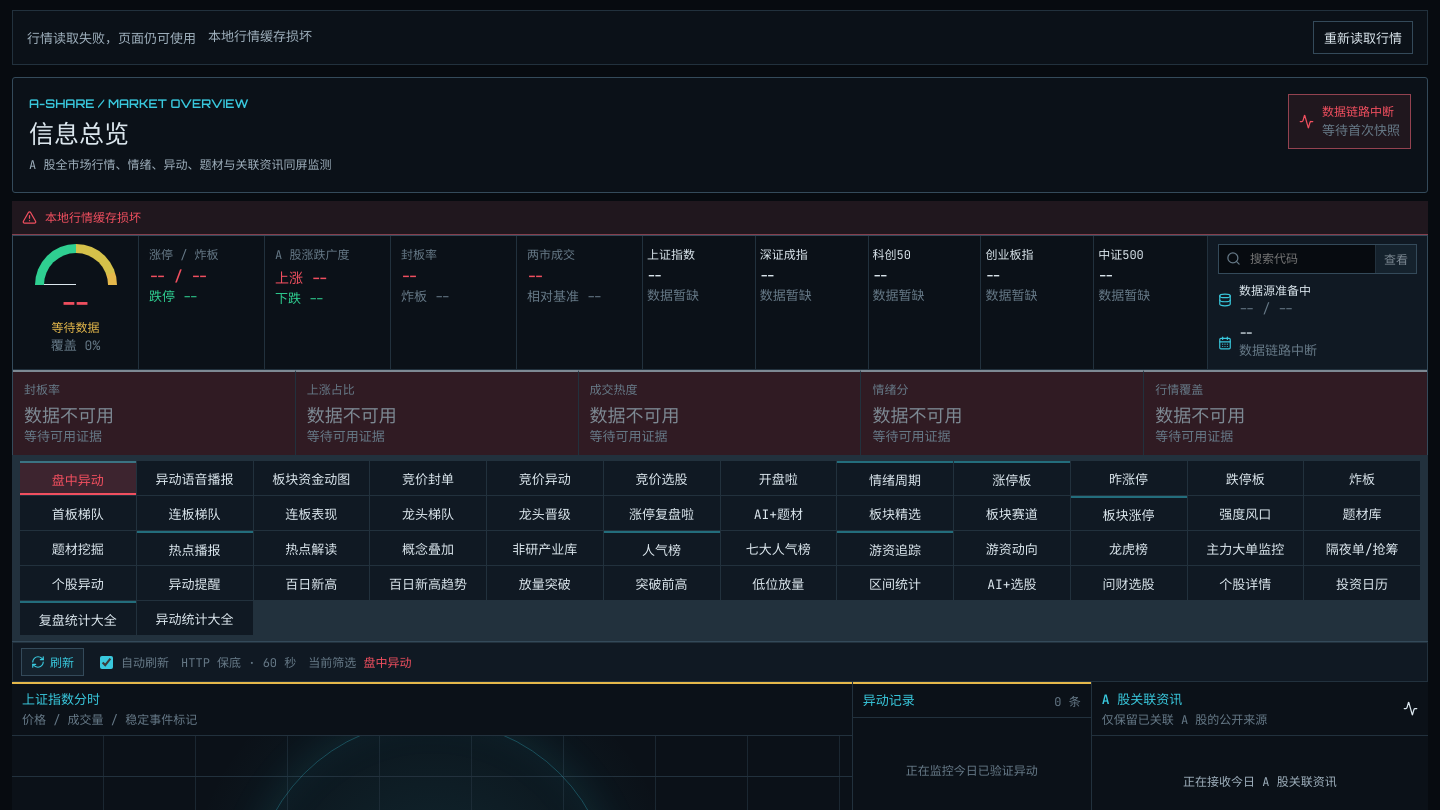
Test: MarketOverviewView › keeps the workspace usable when initial market data fails and supports retry
Expected: the element named "首页后台数据状态" shows "页面仍可使用", [27,30,196,47]
Click the button with aria-label "重试首页数据".
click(1363, 38)  # box [1313,21,1413,54]
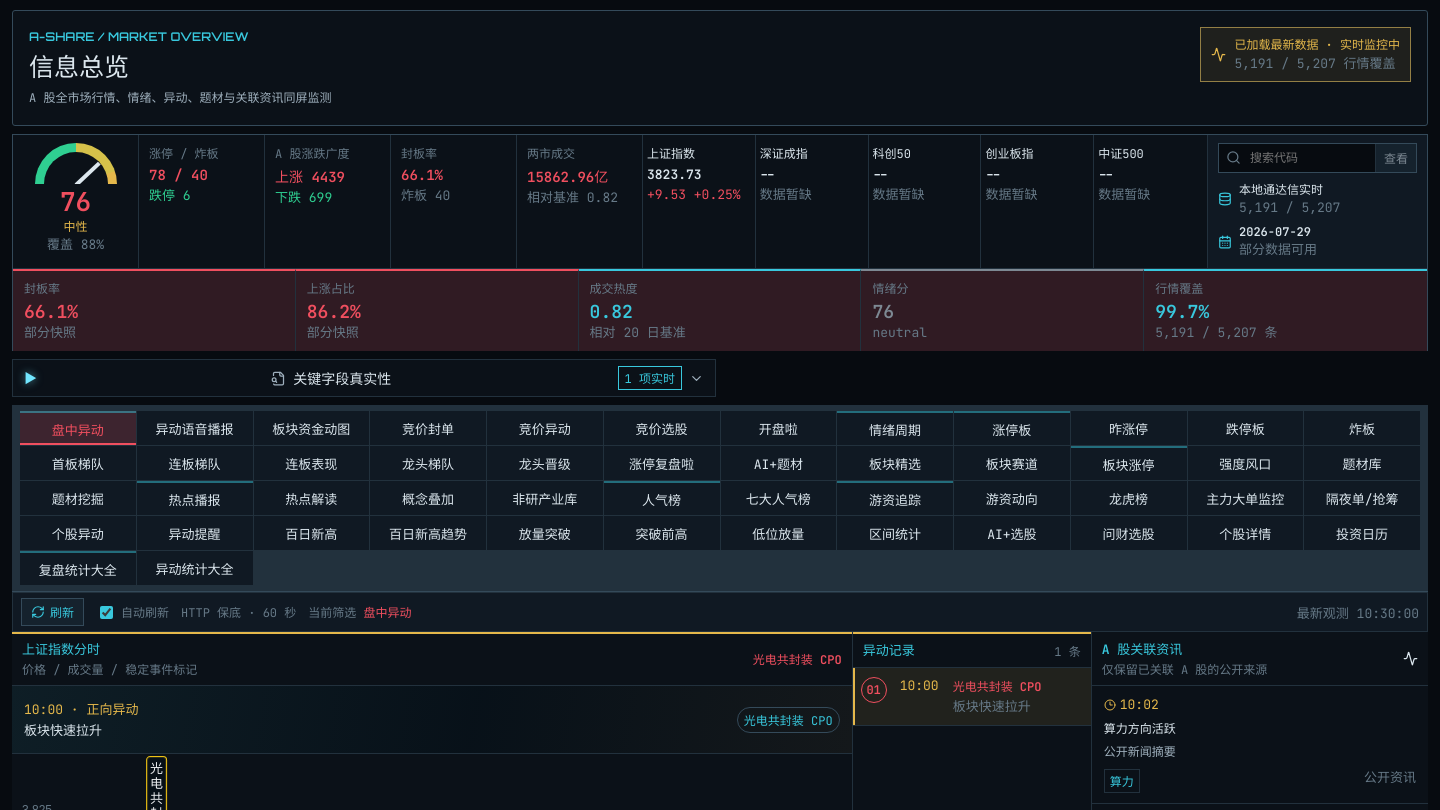
Now the element "首页后台数据状态" is gone
